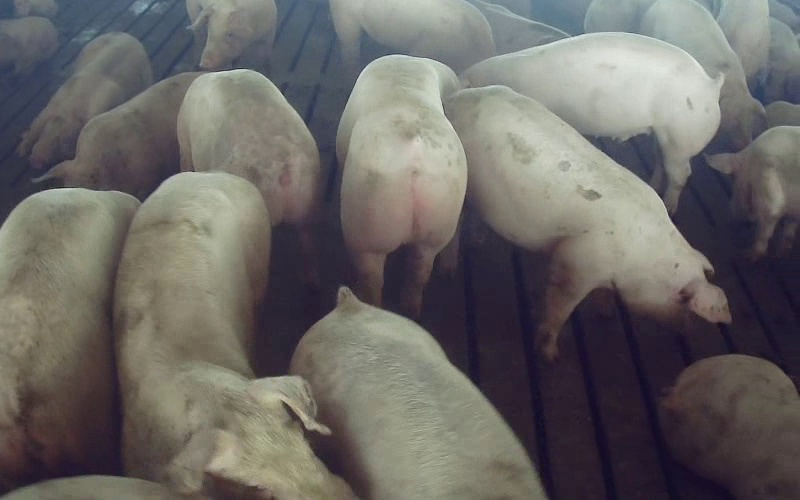pig: (115, 173, 351, 499), (446, 87, 730, 357), (291, 287, 544, 499), (0, 189, 138, 493), (336, 55, 465, 316), (584, 0, 765, 151), (177, 69, 319, 224), (36, 73, 202, 199), (660, 355, 799, 499), (17, 32, 152, 168), (707, 126, 799, 259), (330, 0, 494, 72), (186, 0, 276, 71)
